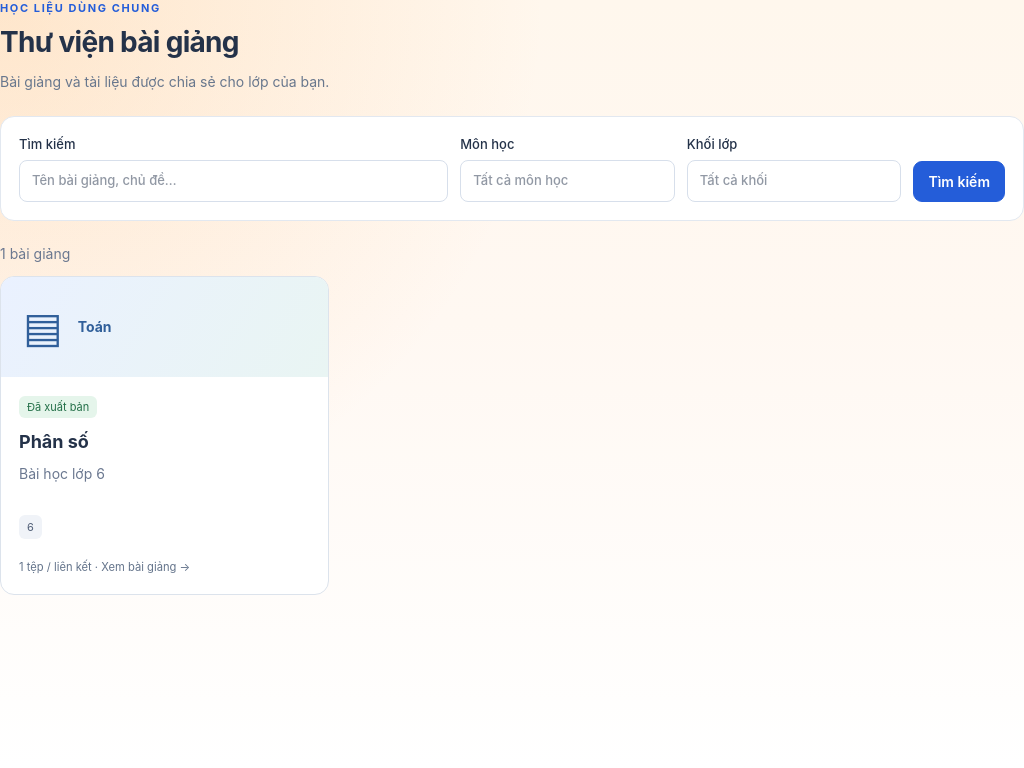
Test: reveals the AI description on demand and explains when none exists
The width and height of the screenshot is (1024, 768).
Click the button "Phân số": (165, 326) [0,276,329,595]
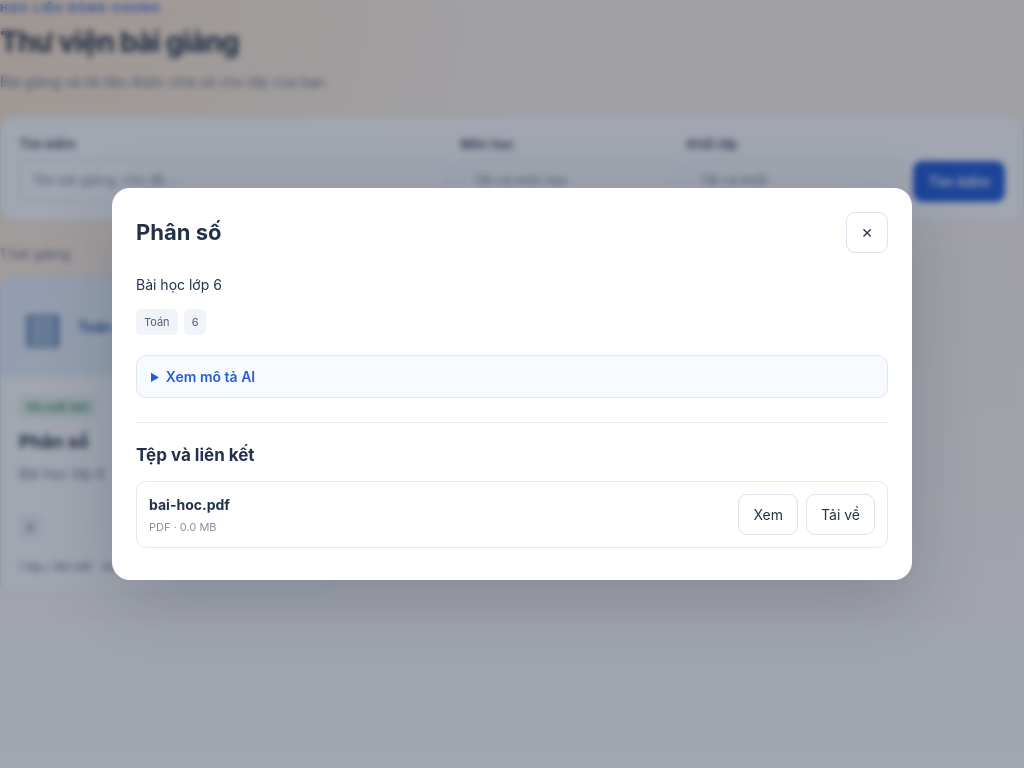
Click the heading "Xem mô tả AI": (210, 377) [166,368,255,385]
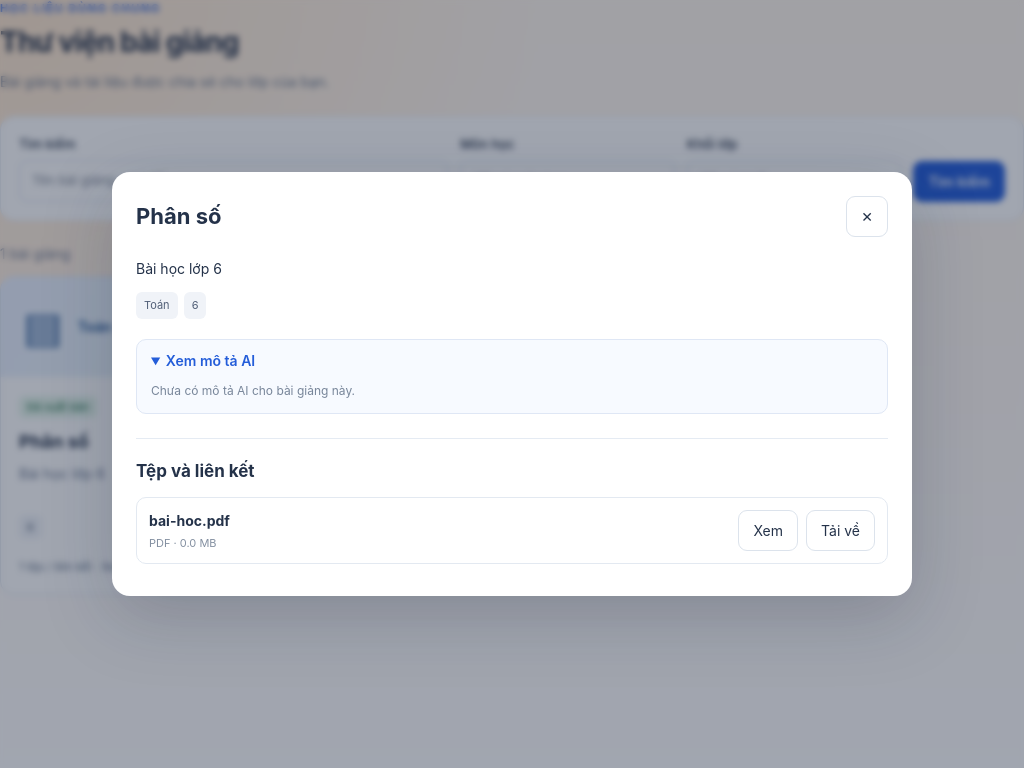
Now the text "Chưa có mô tả AI cho bài giảng này." is shown, box [151,383,355,398]
Click the button named "Đóng": (867, 216) [846,196,888,237]
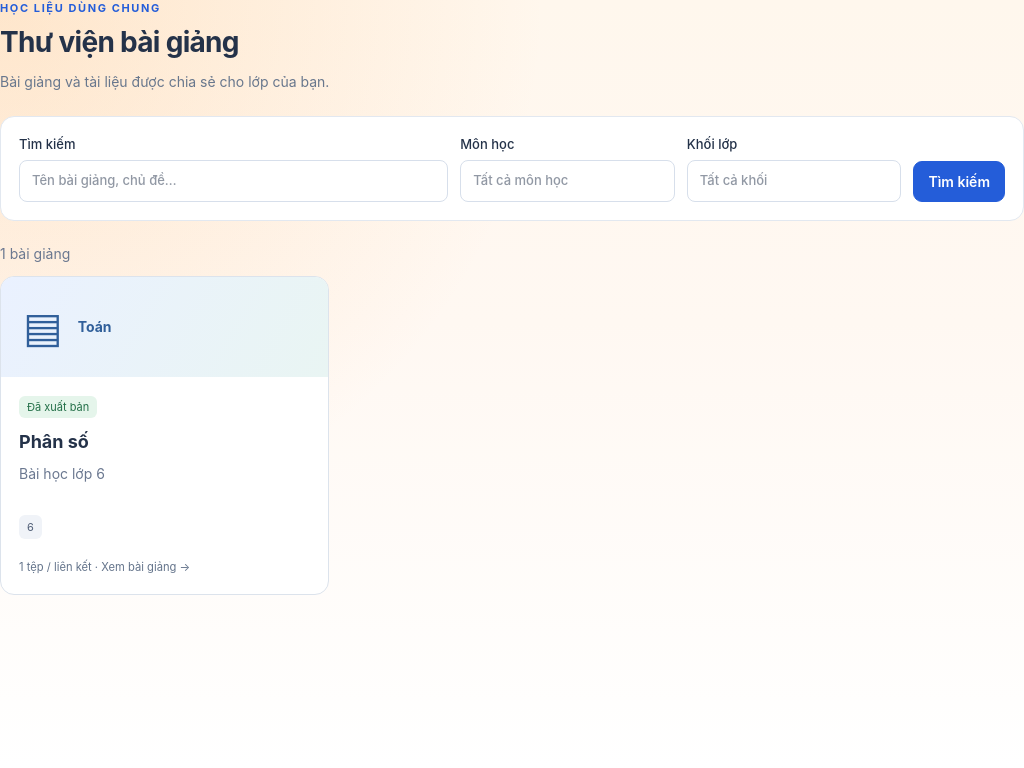
Click the button "Phân số": (165, 326) [0,276,329,595]
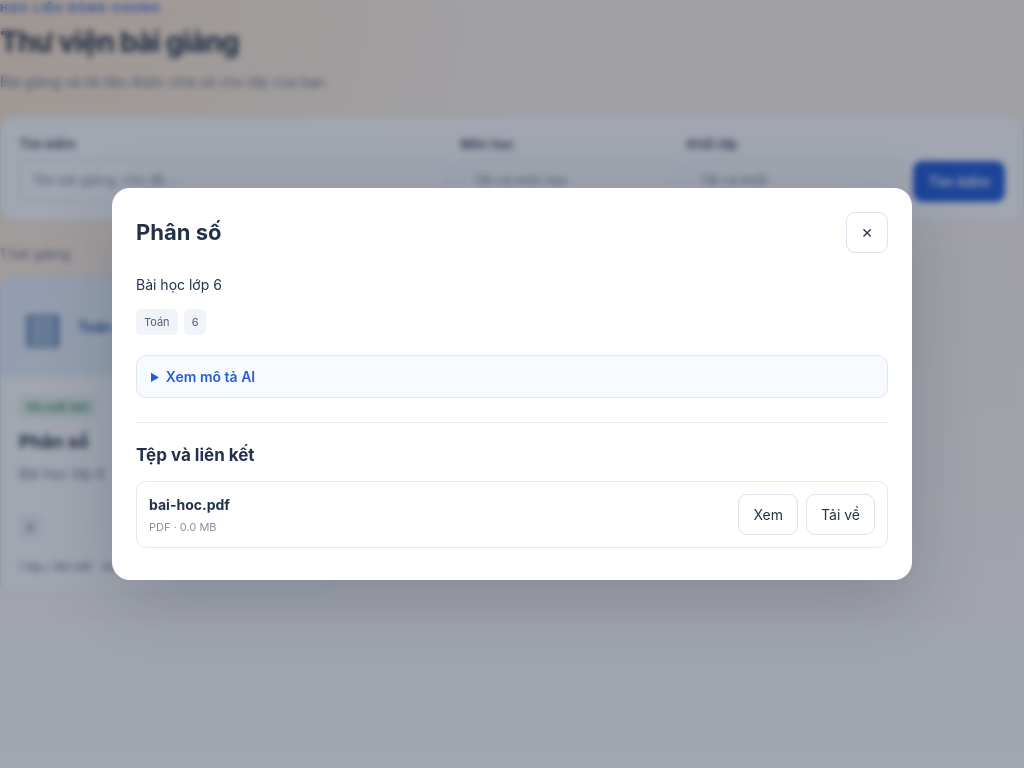
Expected: the text "Tóm tắt AI: phân số cơ bản" is not shown
Click the heading "Xem mô tả AI": (210, 377) [166,368,255,385]
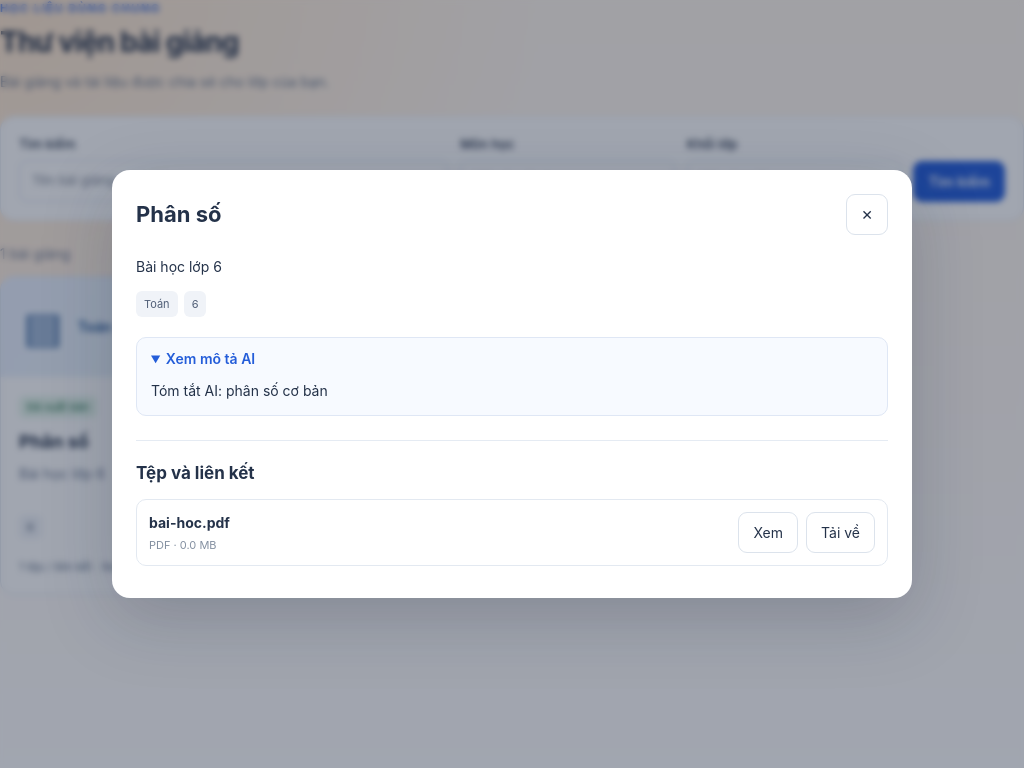
Now the text "Tóm tắt AI: phân số cơ bản" is shown, box [151,382,328,399]
